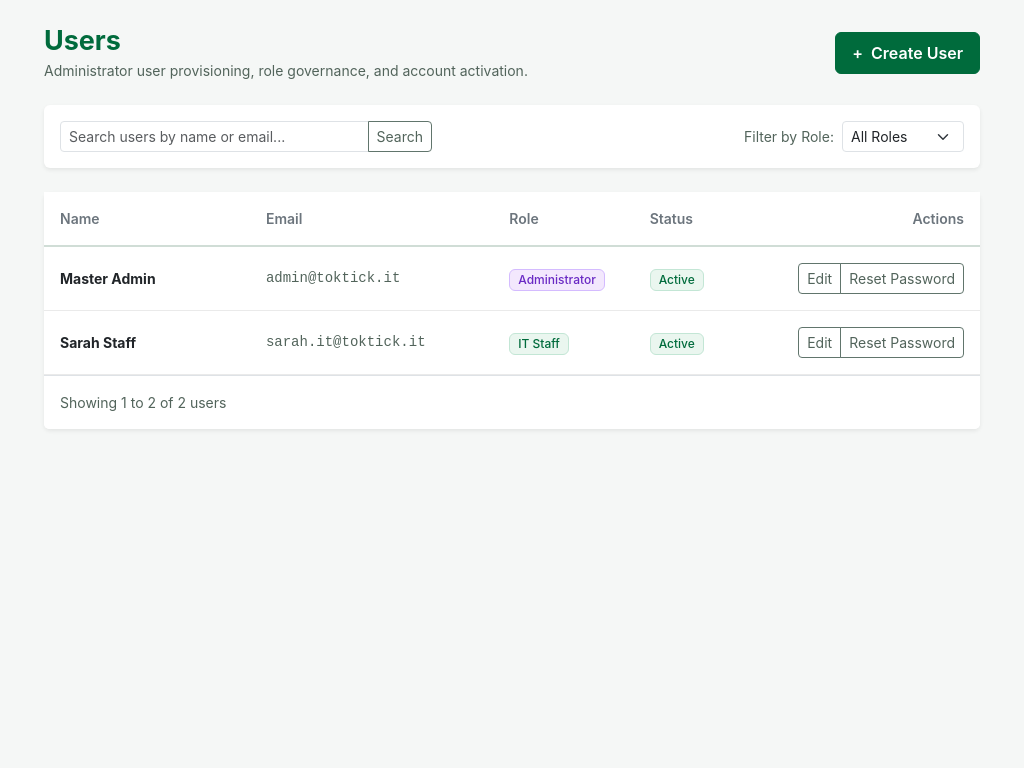
UI-07 & UI-08: Administrator User Management & Safety Guards › enforces sole active administrator safety guard (BR-25) in edit user modal
The image size is (1024, 768).
Step 1. Click the button with aria-label "edit master admin" → [820, 279], box [798,263,841,294]
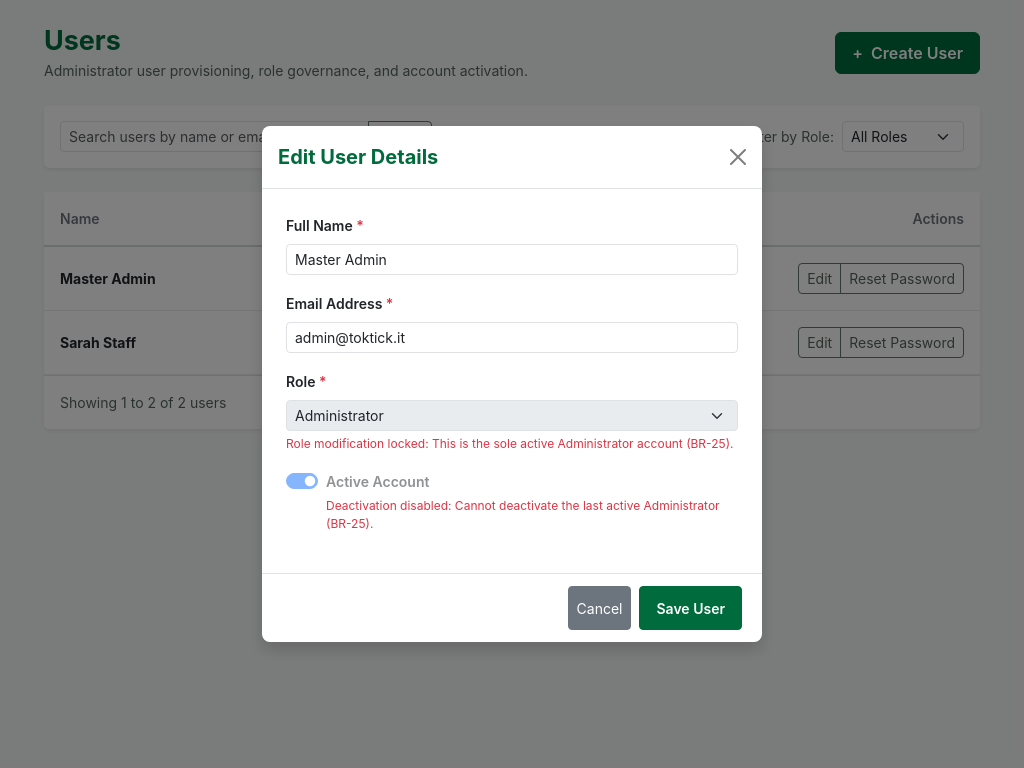
Result: the switch labelled "Active Account" is disabled at [286,473,318,489]
Result: the text "Cannot deactivate the last active Administrator (BR-25)" is shown at [326,498,720,531]
Result: the text "Role modification locked: This is the sole active Administrator account (BR-25)" is shown at [286,436,734,451]
